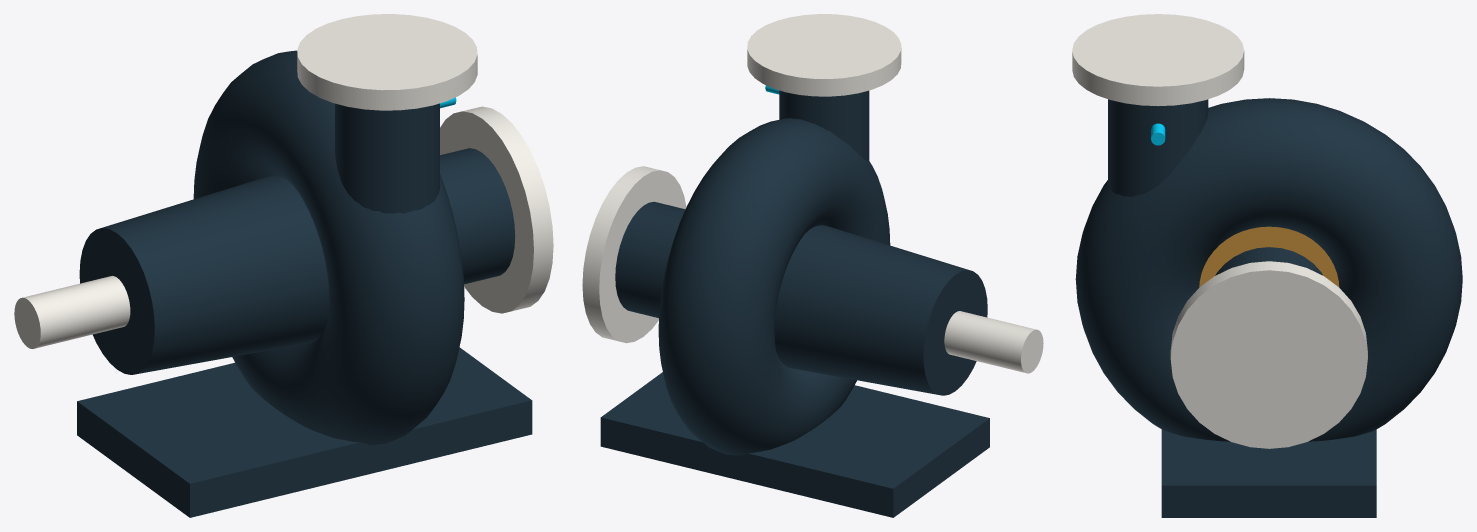
File: centrifugal_pump.glb
The picture shows the model from 3 angles, left to right: view 1: azimuth 30°, elevation 25°; view 2: azimuth 150°, elevation 25°; view 3: azimuth 270°, elevation 25°; orthographic projection. The views are drawn at different scales.
Bounding box in the file's own units: 2.91 × 2.49 × 2.18.
